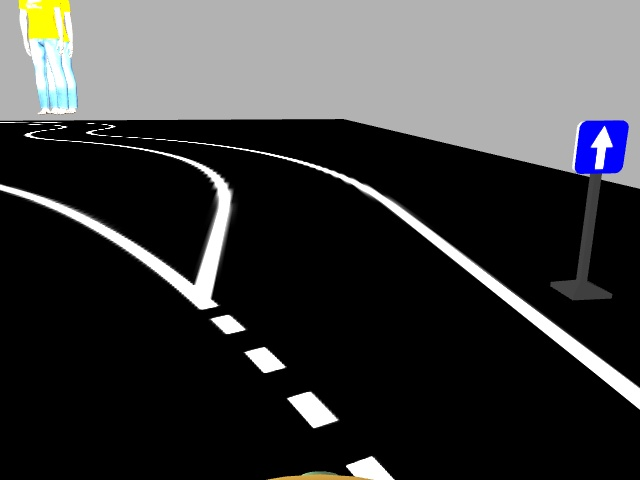OneWay: (574, 119, 625, 171)
